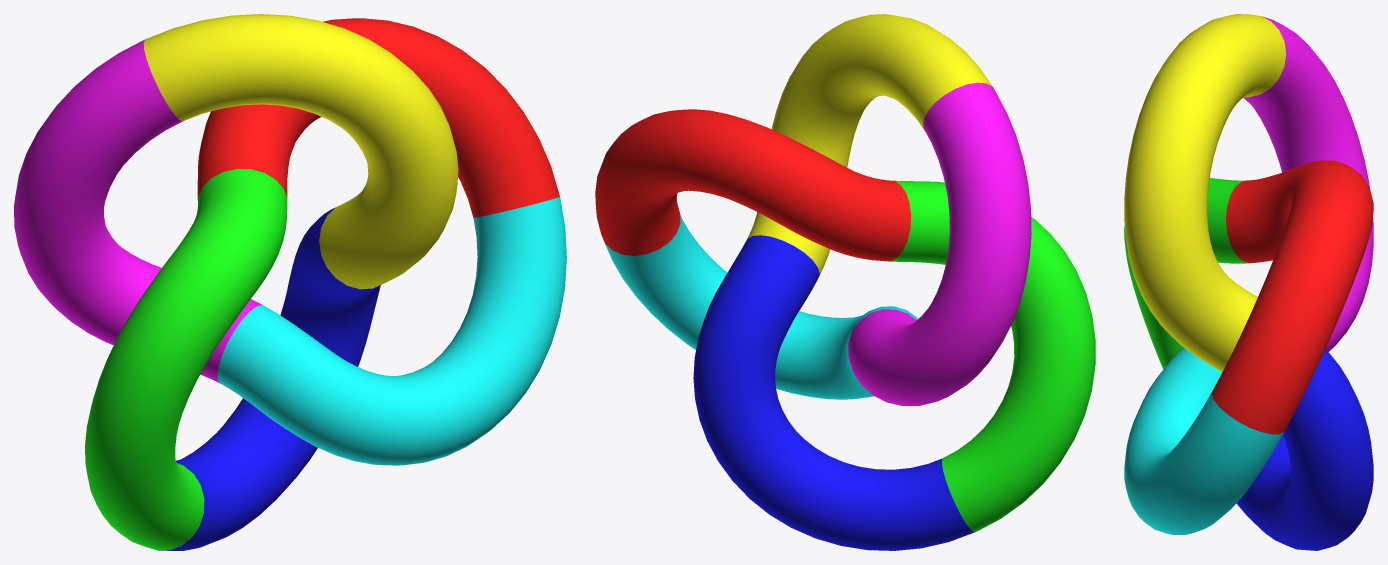
The model's file is kolorowy_wezel.obj.
The picture shows the model from 3 angles, left to right: view 1: azimuth 30°, elevation 25°; view 2: azimuth 150°, elevation 25°; view 3: azimuth 270°, elevation 25°; orthographic projection. The views are drawn at different scales.
Size of the model in its own units: 6.36 by 6.65 by 2.99.
